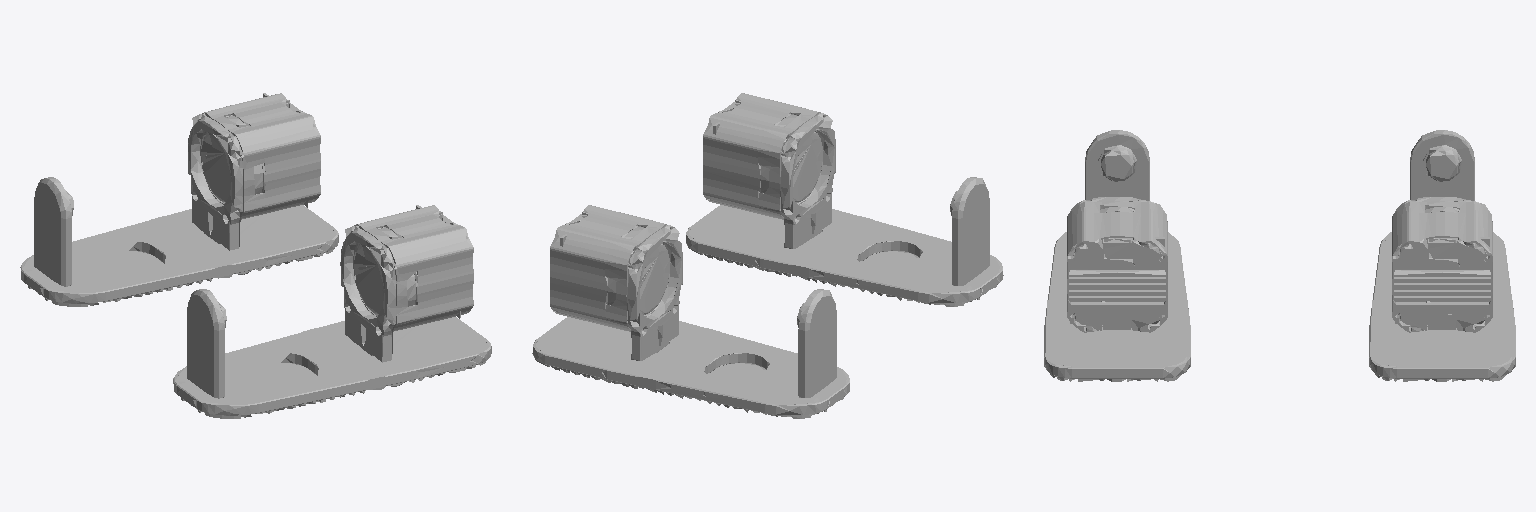
The robot description file, URDF, robot "pi_12dof_release_v1":
<?xml version="1.0" encoding="utf-8"?>
<robot name="pi_12dof_release_v1">
	<mujoco>
		<compiler meshdir="../meshes/" balanceinertia="true" discardvisual="false" />
	</mujoco>

	<link name="base_footprint" />

	<joint name="fixed" type="fixed">
		<parent link="base_footprint" />
		<child link="base_link" />
	</joint>

	<link name="base_link">
		<inertial>
			<origin xyz="0.00242324 -5.699E-05 0.04030078" rpy="0 0 0" />
			<mass value="2.1609" />
			<inertia ixx="0.00900968" ixy="-2.533E-05" ixz="-0.00013112" iyy="0.00978166" iyz="2E-07" izz="0.00416554" />
		</inertial>
		<visual>
			<origin xyz="0 0 0" rpy="0 0 0" />
			<geometry>
				<!-- <box size="0.1 0.1 0.1" /> -->
				<mesh filename="../meshes/baselink_1.STL" />
			</geometry>
			<material name="">
				<color rgba="1 1 1 1" />
			</material>
		</visual>
		<collision>
			<origin xyz="0 0 0.08" rpy="0 0 0" />
			<geometry>
				<box size="0.1 0.1 0.1" />
				<!-- <mesh filename="../meshes/base_link.STL" /> -->
			</geometry>
		</collision>
	</link>

<!-- left leg -->
	<link name="l_hip_pitch_link">
		<inertial>
			<origin xyz="0.00086268 0.05441908 -0.00025859" rpy="0 0 0" />
			<mass value="0.38968624" />
			<inertia ixx="0.00010076" ixy="-4.2E-07" ixz="-4E-08" iyy="0.00010507" iyz="-3E-07" izz="0.00012834" />
		</inertial>
		<visual>
			<origin xyz="0 0 0" rpy="0 0 0" />
			<geometry>
				<mesh filename="../meshes/l_hip_pitch_link.STL" />
			</geometry>
			<material name="">
				<color rgba="0.75294 0.75294 0.75294 1" />
			</material>
		</visual>
		<collision>
			<origin xyz="0 0 0" rpy="0 0 0" />
			<geometry>
				<box size="0.001 0.001 0.001" />
				<!-- <mesh filename="../meshes/l_hip_pitch_link.STL" /> -->
			</geometry>
		</collision>
	</link>
	<joint name="l_hip_pitch_joint" type="revolute">
		<origin xyz="-5.1979E-05 0.0233 -0.033" rpy="0 -0.25 0" />
		<parent link="base_link" />
		<child link="l_hip_pitch_link" />
		<axis xyz="0 1 0" />
		<limit lower="-1.25" upper="1.75" effort="21" velocity="21" />
	</joint>
	<link name="l_hip_roll_link">
		<inertial>
			<origin xyz="-0.00207707 0.00026598 -0.0608194" rpy="0 0 0" />
			<mass value="0.38851552" />
			<inertia ixx="0.00027068" ixy="-7.6E-07" ixz="3.136E-05" iyy="0.0003332" iyz="8.8E-07" izz="0.00013543" />
		</inertial>
		<visual>
			<origin xyz="0 0 0" rpy="0 0 0" />
			<geometry>
				<mesh filename="../meshes/l_hip_roll_link.STL" />
			</geometry>
			<material name="">
				<color rgba="0.75294 0.75294 0.75294 1" />
			</material>
		</visual>
		<collision>
			<origin xyz="0 0 0" rpy="0 0 0" />
			<geometry>
				<box size="0.001 0.001 0.001" />
				<!-- <mesh filename="../meshes/l_hip_roll_link.STL" /> -->
			</geometry>
		</collision>
	</link>
	<joint name="l_hip_roll_joint" type="revolute">
		<origin xyz="0 0.0568 0" rpy="0 0 0" />
		<parent link="l_hip_pitch_link" />
		<child link="l_hip_roll_link" />
		<axis xyz="1 0 0" />
		<limit lower="-0.12" upper="0.5" effort="21" velocity="21" />
	</joint>
	<link name="l_hip_yaw_link">
		<inertial>
			<origin xyz="0 -0.00115822 -0.04755896" rpy="0 0 0" />
			<mass value="0.11270879" />
			<inertia ixx="0.00012497" ixy="0" ixz="0" iyy="5.82E-05" iyz="-3.21E-06" izz="9.438E-05" />
		</inertial>
		<visual>
			<origin xyz="0 0 0" rpy="0 0 0" />
			<geometry>
				<mesh filename="../meshes/l_thigh_link.STL" />
			</geometry>
			<material name="">
				<color rgba="0.75294 0.75294 0.75294 1" />
			</material>
		</visual>
		<collision>
			<origin xyz="0 0 0" rpy="0 0 0" />
			<geometry>
				<box size="0.001 0.001 0.001" />
				<!-- <mesh filename="../meshes/l_thigh_link.STL" /> -->
			</geometry>
		</collision>
	</link>
	<joint name="l_hip_yaw_joint" type="revolute">
		<origin xyz="0 0 -0.06925" rpy="0 0 0" />
		<parent link="l_hip_roll_link" />
		<child link="l_hip_yaw_link" />
		<axis xyz="0 0 1" />
		<limit lower="-0.3" upper="0.6" effort="21" velocity="21" />
	</joint>
	<link name="l_knee_pitch_link">
		<inertial>
			<origin xyz="0.00026627 0.00386537 -0.06971210" rpy="0 0 0" />
			<mass value="0.81374212" />
			<inertia ixx="0.00352123" ixy="0.00000020" ixz="0.00000072" iyy="0.00349946" iyz="0.00002072" izz="0.00017468" />
		</inertial>
		<visual>
			<origin xyz="0 0 0" rpy="0 0 0" />
			<geometry>
				<mesh filename="../meshes/l_calf_link.STL" />
			</geometry>
			<material name="">
				<color rgba="0.75294 0.75294 0.75294 1" />
			</material>
		</visual>
		<collision>
			<origin xyz="0 0 0" rpy="0 0 0" />
			<geometry>
				<box size="0.001 0.001 0.001" />
				<!-- <mesh filename="../meshes/l_calf_link.STL" /> -->
			</geometry>
		</collision>
	</link>
	<joint name="l_knee_pitch_joint" type="revolute">
		<origin xyz="0 0 -0.07025" rpy="0 0.65 0" />
		<parent link="l_hip_yaw_link" />
		<child link="l_knee_pitch_link" />
		<axis xyz="0 1 0" />
		<limit lower="-0.65" upper="1.65" effort="21" velocity="21" />
	</joint>
	<link name="l_ankle_pitch_link">
		<inertial>
			<origin xyz="0.00467932 -0.00077699 0" rpy="0 0 0" />
			<mass value="0.1759244" />
			<inertia ixx="0.00011981" ixy="-6.4E-07" ixz="0" iyy="0.00022179" iyz="0" izz="0.00030766" />
		</inertial>
		<visual>
			<origin xyz="0 0 0" rpy="0 0 0" />
			<geometry>
				<mesh filename="../meshes/l_ankle_pitch_link.STL" />
			</geometry>
			<material name="">
				<color rgba="0.75294 0.75294 0.75294 1" />
			</material>
		</visual>
		<collision>
			<origin xyz="0 0 0" rpy="0 0 0" />
			<geometry>
				<box size="0.078 0.08 0.05" />
				<!-- <mesh filename="../meshes/l_ankle_pitch_link.STL" /> -->
			</geometry>
		</collision>
	</link>
	<joint name="l_ankle_pitch_joint" type="revolute">
		<origin xyz="0 0 -0.14" rpy="0 -0.4 0" />
		<parent link="l_knee_pitch_link" />
		<child link="l_ankle_pitch_link" />
		<axis xyz="0 1 0" />
		<limit lower="-0.5" upper="1.3" effort="21" velocity="21" />
	</joint>
	<link name="l_ankle_roll_link">
		<inertial>
			<origin xyz="-0.02383679 0.00019256 -0.0144649" rpy="0 0 0" />
			<mass value="0.51868476" />
			<inertia ixx="0.0003308" ixy="-2.49E-06" ixz="-0.00018245" iyy="0.00113168" iyz="-1.06E-06" izz="0.00098381" />
		</inertial>
		<visual>
			<origin xyz="0 0 0" rpy="0 0 0" />
			<geometry>
				<mesh filename="../meshes/l_ankle_roll_link.STL" />
			</geometry>
			<material name="">
				<color rgba="0.75294 0.75294 0.75294 1" />
			</material>
		</visual>
		<collision>
			<origin xyz="0 0 0" rpy="0 0 0" />
			<geometry>
				<mesh filename="../meshes/l_ankle_roll_link.STL" />
			</geometry>
		</collision>
	</link>
	<joint name="l_ankle_roll_joint" type="revolute">
		<origin xyz="0.07525 0 0" rpy="0 0 0" />
		<parent link="l_ankle_pitch_link" />
		<child link="l_ankle_roll_link" />
		<axis xyz="1 0 0" />
		<limit lower="-0.15" upper="0.15" effort="21" velocity="21" />
	</joint>

<!-- right leg -->
	<link name="r_hip_pitch_link">
		<inertial>
			<origin xyz="0.00089428 -0.05527744 -0.00027276" rpy="0 0 0" />
			<mass value="0.36999771" />
			<inertia ixx="8.307E-05" ixy="2E-07" ixz="-5E-08" iyy="9.81E-05" iyz="-7E-07" izz="0.0001085" />
		</inertial>
		<visual>
			<origin xyz="0 0 0" rpy="0 0 0" />
			<geometry>
				<mesh filename="../meshes/r_hip_pitch_link.STL" />
			</geometry>
			<material name="">
				<color rgba="0.75294 0.75294 0.75294 1" />
			</material>
		</visual>
		<collision>
			<origin xyz="0 0 0" rpy="0 0 0" />
			<geometry>
				<box size="0.001 0.001 0.001" />
				<!-- <mesh filename="../meshes/r_hip_pitch_link.STL" /> -->
			</geometry>
		</collision>
	</link>
	<joint name="r_hip_pitch_joint" type="revolute">
		<origin xyz="-5.1979E-05 -0.0233 -0.033" rpy="0 -0.25 0" />
		<parent link="base_link" />
		<child link="r_hip_pitch_link" />
		<axis xyz="0 1 0" />
		<limit lower="-1.25" upper="1.75" effort="21" velocity="21" />
	</joint>
	<link name="r_hip_roll_link">
		<inertial>
			<origin xyz="-0.00180153 0.00025956 -0.0608194" rpy="0 0 0" />
			<mass value="0.38851552" />
			<inertia ixx="0.00027042" ixy="3.9E-07" ixz="3.312E-05" iyy="0.0003342" iyz="8.7E-07" izz="0.00013617" />
		</inertial>
		<visual>
			<origin xyz="0 0 0" rpy="0 0 0" />
			<geometry>
				<mesh filename="../meshes/r_hip_roll_link.STL" />
			</geometry>
			<material name="">
				<color rgba="0.75294 0.75294 0.75294 1" />
			</material>
		</visual>
		<collision>
			<origin xyz="0 0 0" rpy="0 0 0" />
			<geometry>
				<box size="0.001 0.001 0.001" />
				<!-- <mesh filename="../meshes/r_hip_roll_link.STL" /> -->
			</geometry>
		</collision>
	</link>
	<joint name="r_hip_roll_joint" type="revolute">
		<origin xyz="0.00025 -0.0568 0" rpy="0 0 0" />
		<parent link="r_hip_pitch_link" />
		<child link="r_hip_roll_link" />
		<axis xyz="1 0 0" />
		<limit lower="-0.5" upper="0.12" effort="21" velocity="21" />
	</joint>
	<link name="r_hip_yaw_link">
		<inertial>
			<origin xyz="0 0.00116854 -0.04755896" rpy="0 0 0" />
			<mass value="0.11270879" />
			<inertia ixx="0.00012496" ixy="0" ixz="0" iyy="5.82E-05" iyz="3.19E-06" izz="9.438E-05" />
		</inertial>
		<visual>
			<origin xyz="0 0 0" rpy="0 0 0" />
			<geometry>
				<mesh filename="../meshes/r_thigh_link.STL" />
			</geometry>
			<material name="">
				<color rgba="0.75294 0.75294 0.75294 1" />
			</material>
		</visual>
		<collision>
			<origin xyz="0 0 0" rpy="0 0 0" />
			<geometry>
				<box size="0.001 0.001 0.001" />
				<!-- <mesh filename="../meshes/r_thigh_link.STL" /> -->
			</geometry>
		</collision>
	</link>
	<joint name="r_hip_yaw_joint" type="revolute">
		<origin xyz="-0.00025 0 -0.06925" rpy="0 0 0" />
		<parent link="r_hip_roll_link" />
		<child link="r_hip_yaw_link" />
		<axis xyz="0 0 1" />
		<limit lower="-0.6" upper="0.3" effort="21" velocity="21" />
	</joint>
	<link name="r_knee_pitch_link">
		<inertial>
			<origin xyz="-0.00026627 -0.00116537 -0.06971210" rpy="0 0 0" />
			<mass value="0.81374212" />
			<inertia ixx="0.00352123" ixy="0.00000020" ixz="-0.00000072" iyy="0.00349946" iyz="-0.00002072" izz="0.00017468" />
		</inertial>
		<visual>
			<origin xyz="0 0 0" rpy="0 0 0" />
			<geometry>
				<mesh filename="../meshes/r_calf_link.STL" />
			</geometry>
			<material name="">
				<color rgba="0.75294 0.75294 0.75294 1" />
			</material>
		</visual>
		<collision>
			<origin xyz="0 0 0" rpy="0 0 0" />
			<geometry>
				<box size="0.001 0.001 0.001" />
				<!-- <mesh filename="../meshes/r_calf_link.STL" /> -->
			</geometry>
		</collision>
	</link>
	<joint name="r_knee_pitch_joint" type="revolute">
		<origin xyz="0 -0.0027 -0.07025" rpy="0 0.65 0" />
		<parent link="r_hip_yaw_link" />
		<child link="r_knee_pitch_link" />
		<axis xyz="0 1 0" />
		<limit lower="-0.65" upper="1.65" effort="21" velocity="21" />
	</joint>
	<link name="r_ankle_pitch_link">
		<inertial>
			<origin xyz="0.00467932 0.00347699 0" rpy="0 0 0" />
			<mass value="0.1759244" />
			<inertia ixx="0.00011981" ixy="6.4E-07" ixz="0" iyy="0.00022179" iyz="0" izz="0.00030766" />
		</inertial>
		<visual>
			<origin xyz="0 0 0" rpy="0 0 0" />
			<geometry>
				<mesh filename="../meshes/r_ankle_pitch_link.STL" />
			</geometry>
			<material name="">
				<color rgba="0.75294 0.75294 0.75294 1" />
			</material>
		</visual>
		<collision>
			<origin xyz="0 0 0" rpy="0 0 0" />
			<geometry>
				<box size="0.078 0.08 0.05" />
				<!-- <mesh filename="../meshes/r_ankle_pitch_link.STL" /> -->
			</geometry>
		</collision>
	</link>
	<joint name="r_ankle_pitch_joint" type="revolute">
		<origin xyz="0 0 -0.14" rpy="0 -0.4 0" />
		<parent link="r_knee_pitch_link" />
		<child link="r_ankle_pitch_link" />
		<axis xyz="0 1 0" />
		<limit lower="-0.5" upper="1.3" effort="21" velocity="21" />
	</joint>
	<link name="r_ankle_roll_link">
		<inertial>
			<origin xyz="-0.02383679 0.00019256 -0.0144649" rpy="0 0 0" />
			<mass value="0.51868476" />
			<inertia ixx="0.0003308" ixy="-2.49E-06" ixz="-0.00018245" iyy="0.00113168" iyz="-1.06E-06" izz="0.00098381" />
		</inertial>
		<visual>
			<origin xyz="0 0 0" rpy="0 0 0" />
			<geometry>
				<mesh filename="../meshes/r_ankle_roll_link.STL" />
			</geometry>
			<material name="">
				<color rgba="0.75294 0.75294 0.75294 1" />
			</material>
		</visual>
		<collision>
			<origin xyz="0 0 0" rpy="0 0 0" />
			<geometry>
				<mesh filename="../meshes/r_ankle_roll_link.STL" />
			</geometry>
		</collision>
	</link>
	<joint name="r_ankle_roll_joint" type="revolute">
		<origin xyz="0.07525 0.0027 0" rpy="0 0 0" />
		<parent link="r_ankle_pitch_link" />
		<child link="r_ankle_roll_link" />
		<axis xyz="1 0 0" />
		<limit lower="-0.15" upper="0.15" effort="21" velocity="21" />
	</joint>

</robot>

--- What the picture shows (computed from the rendered views, not written in the file) ---
3 views of the same robot in one strip: view 1: azimuth 30°, elevation 25°; view 2: azimuth 150°, elevation 25°; view 3: azimuth 270°, elevation 25° (orthographic).
Robot: pi_12dof_release_v1 — 14 links, 13 joints (12 revolute, 1 fixed); root link base_footprint; default pose: every joint at zero.
Visible links, largest first — view 1: l_ankle_roll_link, r_ankle_roll_link; view 2: l_ankle_roll_link, r_ankle_roll_link; view 3: r_ankle_roll_link, l_ankle_roll_link.
Link boxes in pixels (<box>): l_ankle_roll_link: <box>20,93,338,306</box>; r_ankle_roll_link: <box>173,205,491,418</box>; l_ankle_roll_link: <box>532,205,849,418</box>; r_ankle_roll_link: <box>686,93,1003,306</box>; r_ankle_roll_link: <box>1044,130,1190,381</box>; l_ankle_roll_link: <box>1369,130,1515,381</box>.
Size in the robot's own frame: 0.1695 by 0.2322 by 0.0737 metres.
Meshes: 13 distinct files referenced, 2 mesh visuals loaded (2 binary STL); not drawn: 11 (reference not matched to a file when rendering).